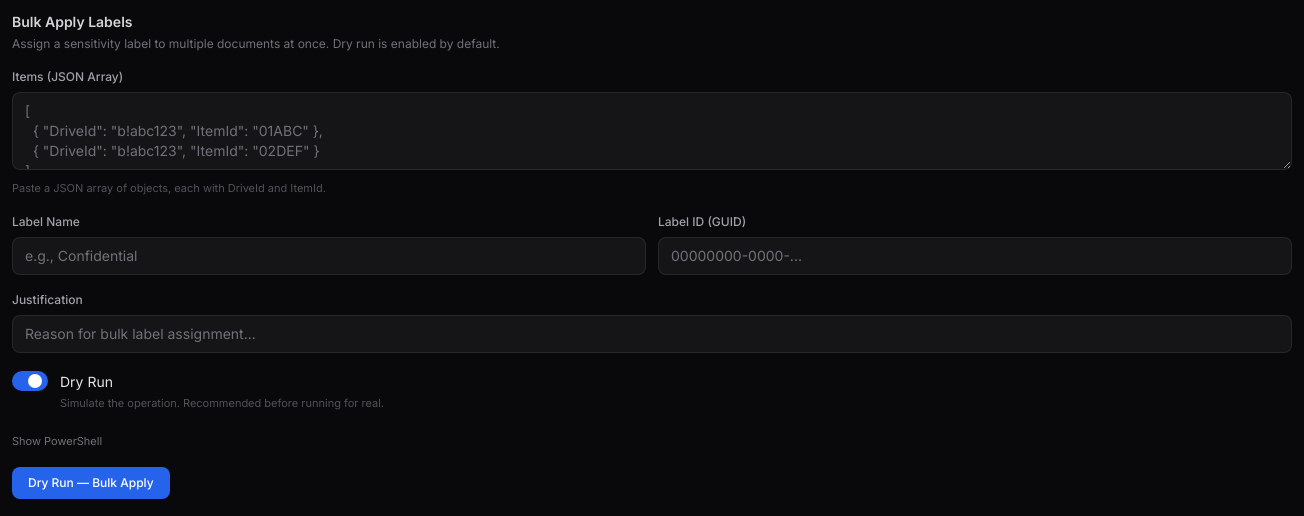
DocumentLabelBulk › button text changes based on dry run state
Check: the button "Dry Run — Bulk Apply" is shown, box [12,467,170,499]
Click the switch: (30, 380) [12,370,48,390]
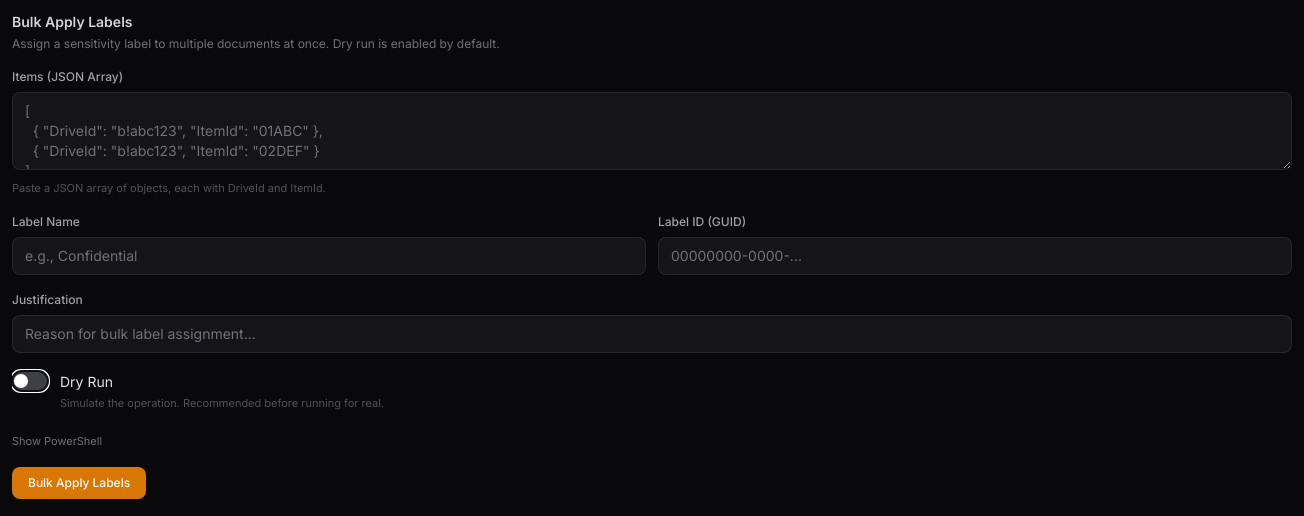
Check: the button "Bulk Apply Labels" is shown, box [12,467,146,499]
Click the switch: (30, 380) [12,370,48,390]
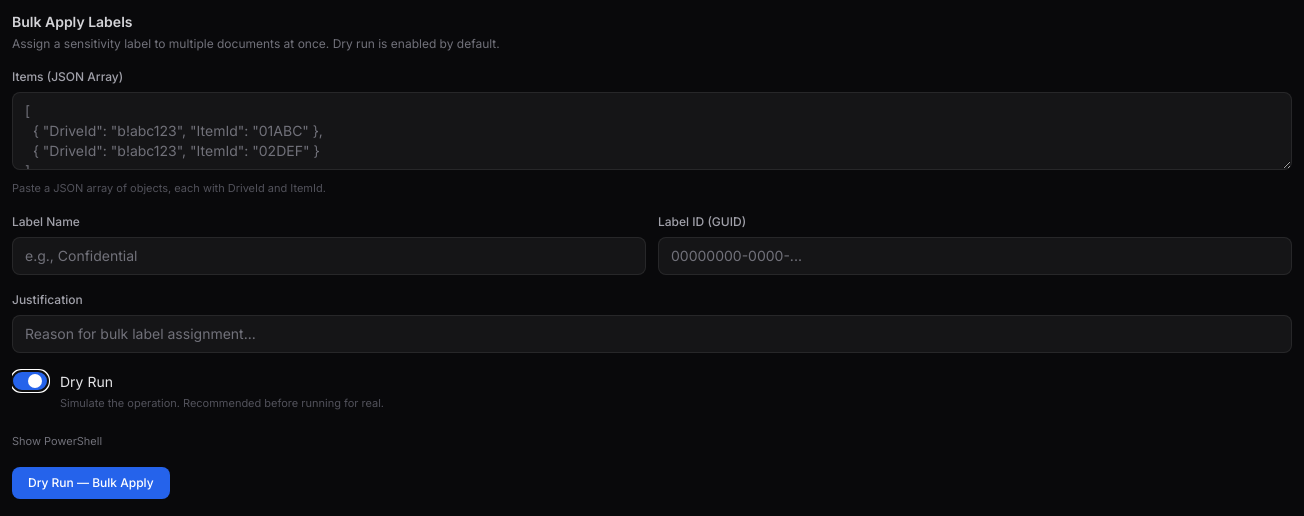
Check: the button "Dry Run — Bulk Apply" is shown, box [12,467,170,499]
